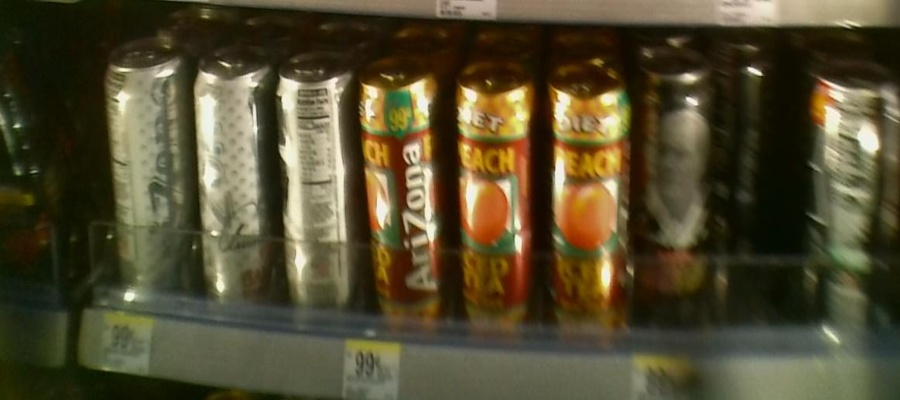bottle: (443, 53, 539, 335), (546, 57, 632, 347), (357, 51, 445, 333), (813, 63, 900, 345), (101, 30, 189, 308), (636, 44, 715, 333), (193, 44, 272, 318), (278, 47, 352, 332), (719, 28, 772, 220)
